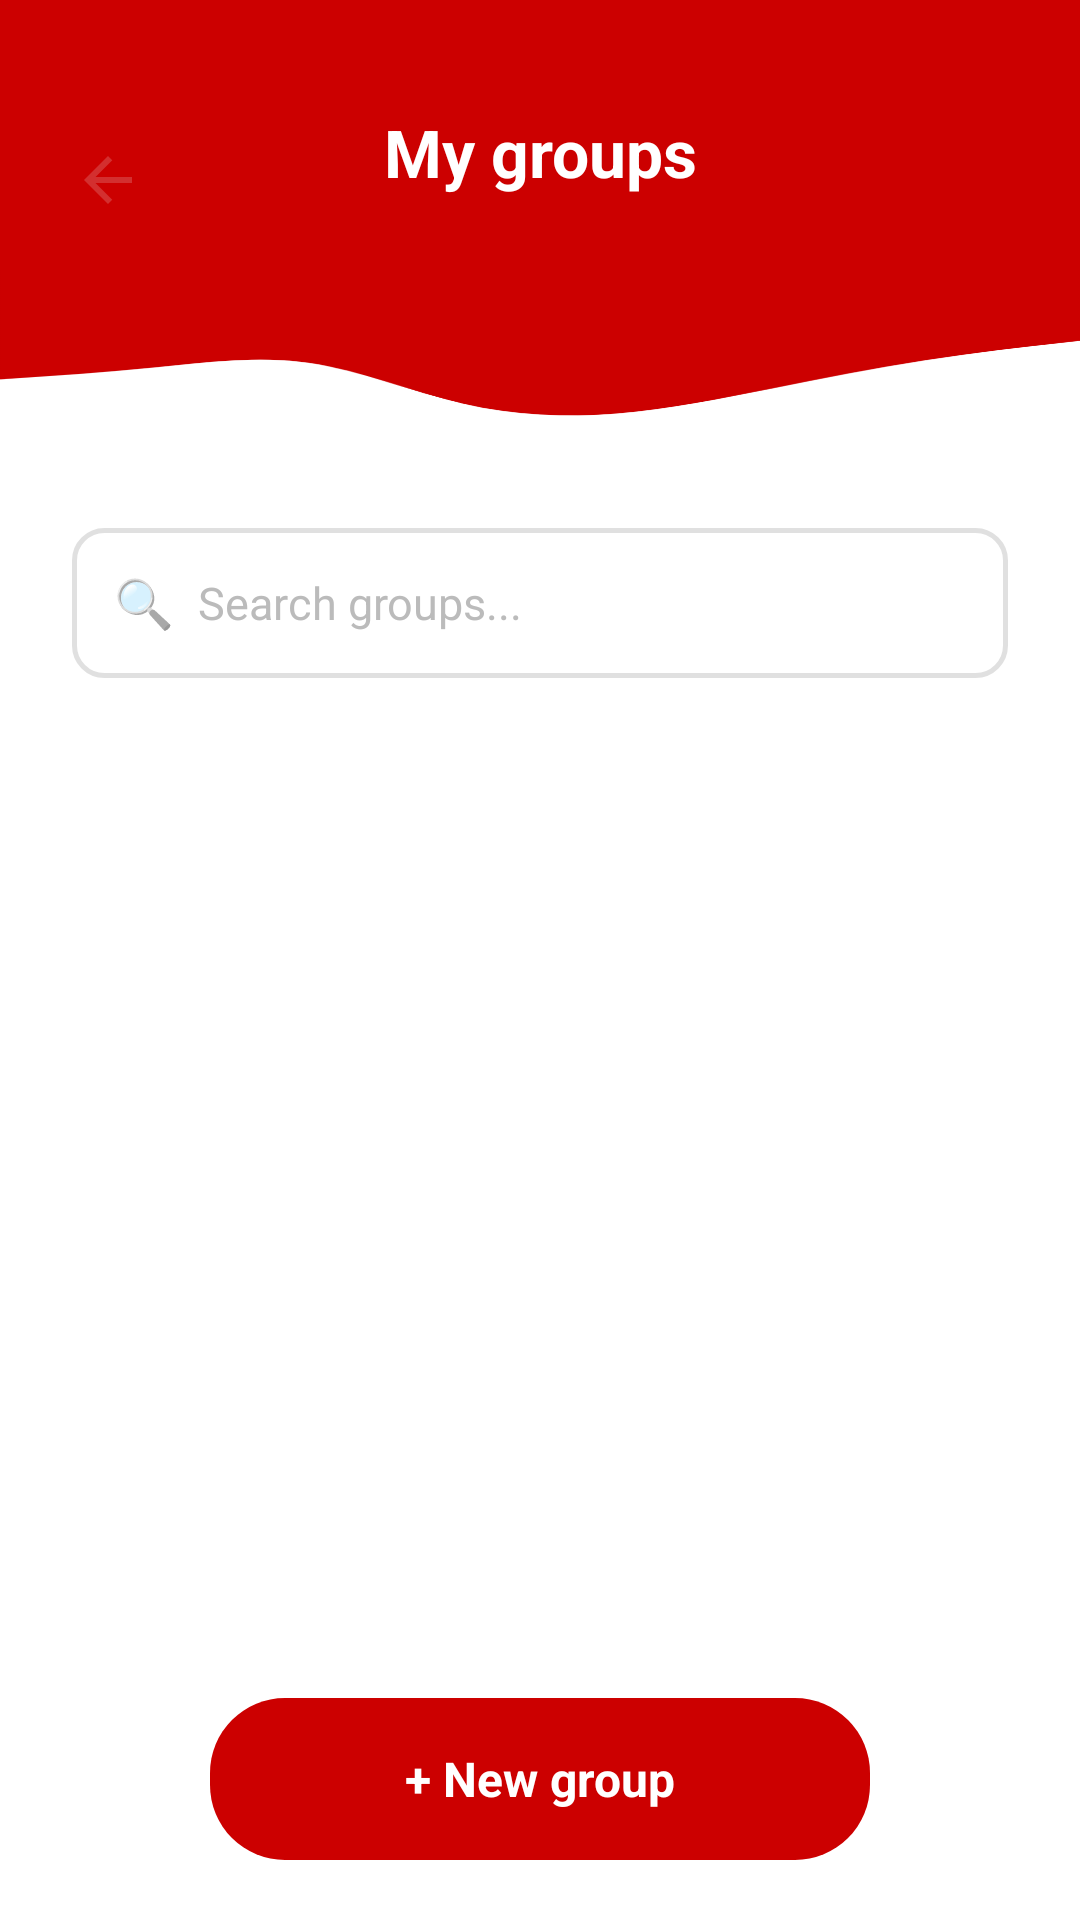

Icons on this 1080*1920 Android screen, each with its box as (x1, y1, x2, y2):
Back: (85, 157, 132, 203)
